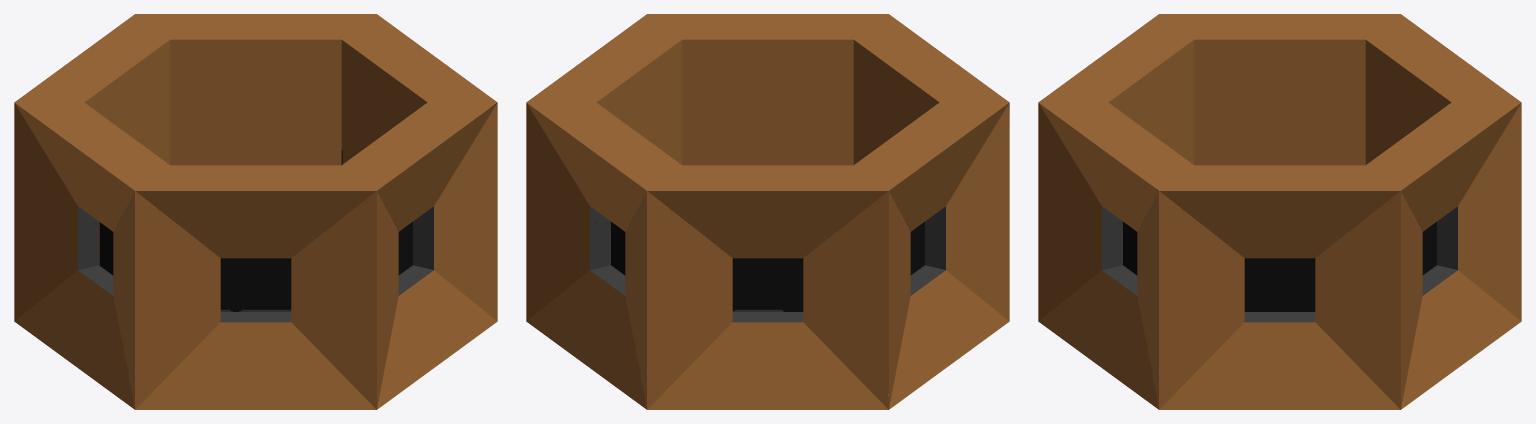
Rendered from bour.fbx.
3 views of the same model, side by side, from view 1: azimuth 30°, elevation 25°; view 2: azimuth 150°, elevation 25°; view 3: azimuth 270°, elevation 25° (orthographic).
Parts seen in each view (by area): view 1: Bour; view 2: Bour; view 3: Bour.
Part boxes in pixels (x1=…): Bour: x1=14, y1=14, x2=497, y2=409; Bour: x1=526, y1=14, x2=1009, y2=409; Bour: x1=1038, y1=14, x2=1521, y2=409.
Bounding box in the file's own units: 173 × 101 × 200.
2 materials, 1 textured.
